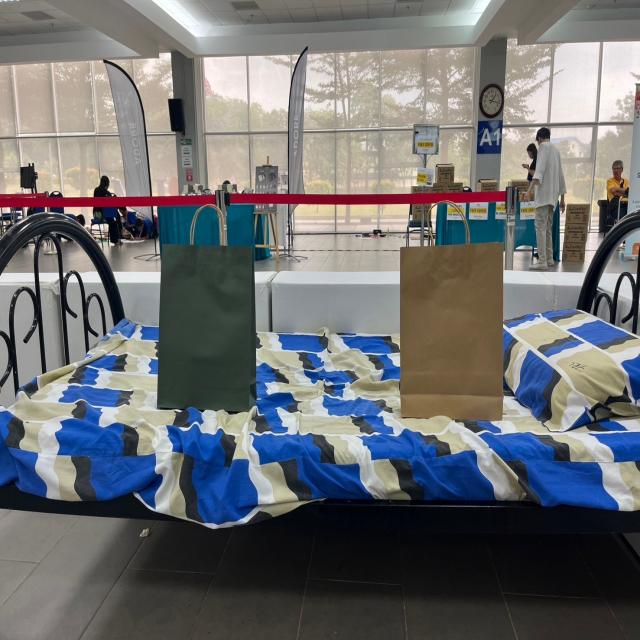bag: (402, 174, 502, 419), (165, 191, 246, 396)
